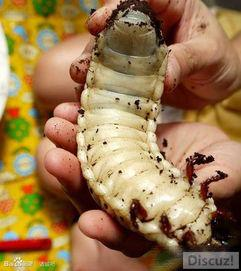grub: (76, 3, 241, 248)
